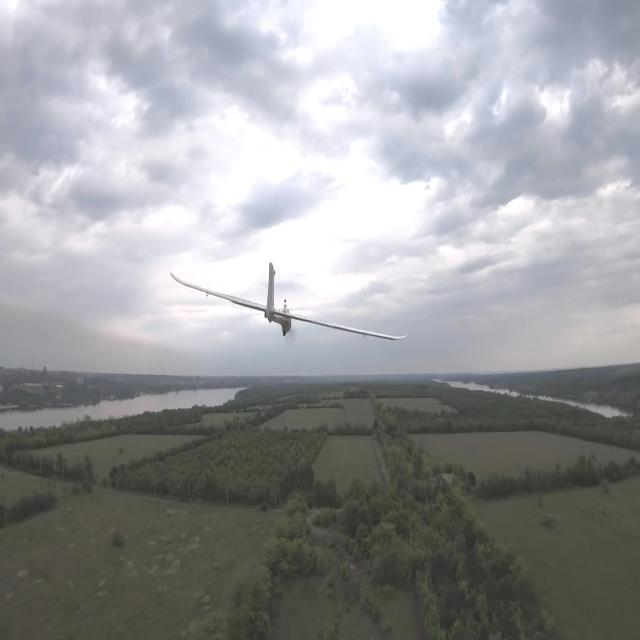iha: (163, 294, 412, 316)
